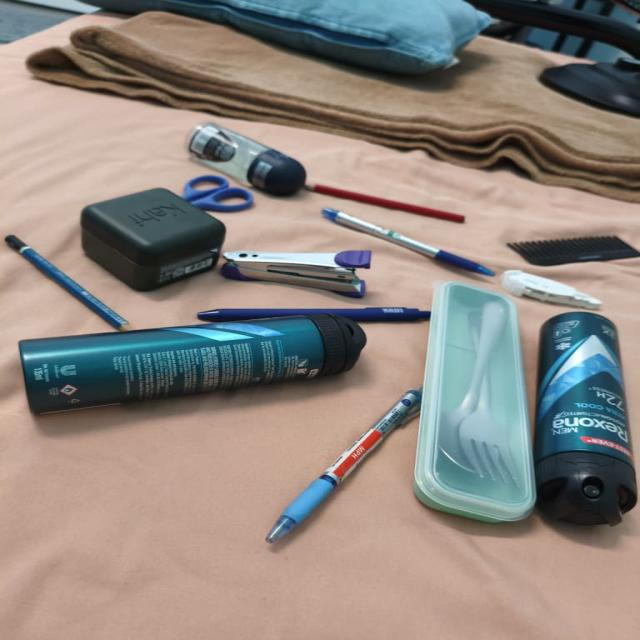pen: (266, 386, 421, 542), (323, 208, 494, 276), (198, 307, 430, 321)
pencil: (5, 235, 128, 329), (305, 183, 464, 222)
scissor: (182, 176, 252, 212)
stapler: (221, 251, 369, 297)
